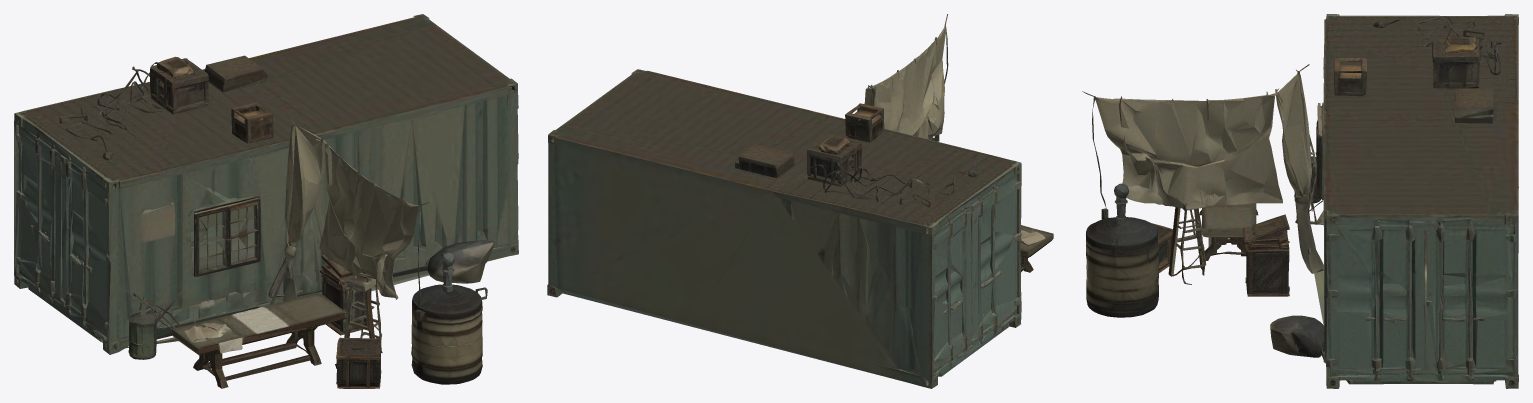
Rendered from dispensaire_agathe.glb.
3 renders of one model, left to right at view 1: azimuth 30°, elevation 25°; view 2: azimuth 150°, elevation 25°; view 3: azimuth 270°, elevation 25°, orthographic. The views are drawn at different scales.
Bounding box in the file's own units: 1.9 × 0.9332 × 1.73.
Materials: 1 (1 with a texture image).
